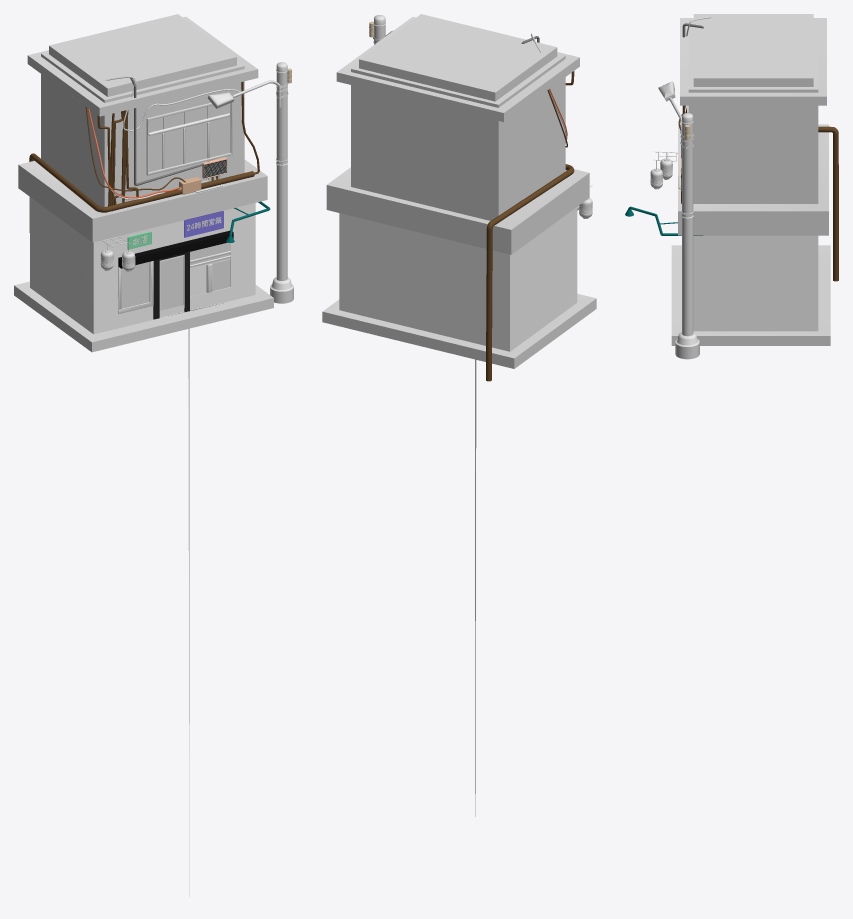
Rendered from Edificio 4.fbx.
The picture shows the model from 3 angles, left to right: view 1: azimuth 30°, elevation 25°; view 2: azimuth 150°, elevation 25°; view 3: azimuth 270°, elevation 25°; orthographic projection. The views are drawn at different scales.
Parts seen in each view (by area): view 1: Cube.001, Cube, Cylinder.002, Cylinder, BezierCurve.001, Plane.009; view 2: Cube.001, Cube, Cylinder; view 3: Cube.001, Cube, Cylinder.002, Cylinder.
Boxes of the visible parts, left/top/right/bottom form: Cube.001: left=18, top=14, right=267, bottom=242; Cube: left=14, top=197, right=273, bottom=896; Cylinder.002: left=270, top=62, right=293, bottom=303; Cylinder: left=29, top=78, right=259, bottom=232; BezierCurve.001: left=97, top=110, right=138, bottom=211; Plane.009: left=184, top=211, right=223, bottom=237; Cube.001: left=326, top=14, right=589, bottom=254; Cube: left=322, top=207, right=596, bottom=816; Cylinder: left=486, top=36, right=574, bottom=381; Cube.001: left=678, top=14, right=828, bottom=235; Cube: left=671, top=235, right=830, bottom=345; Cylinder.002: left=675, top=113, right=699, bottom=359; Cylinder: left=681, top=23, right=838, bottom=281.
Bounding box in the file's own units: 1742 × 6719 × 1519.
